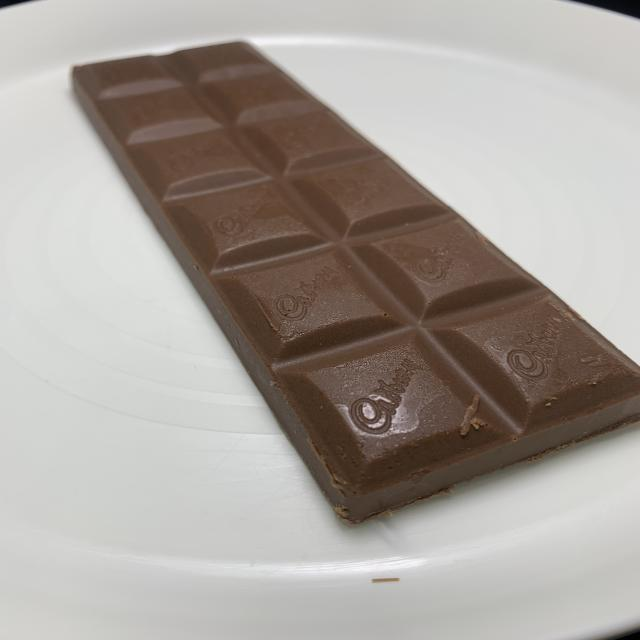Chocolate: (72, 38, 640, 527)
